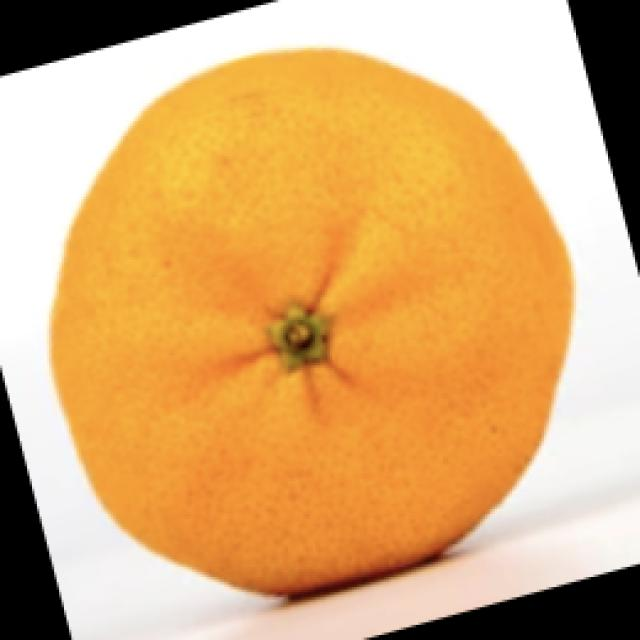matang: (45, 45, 578, 596)
